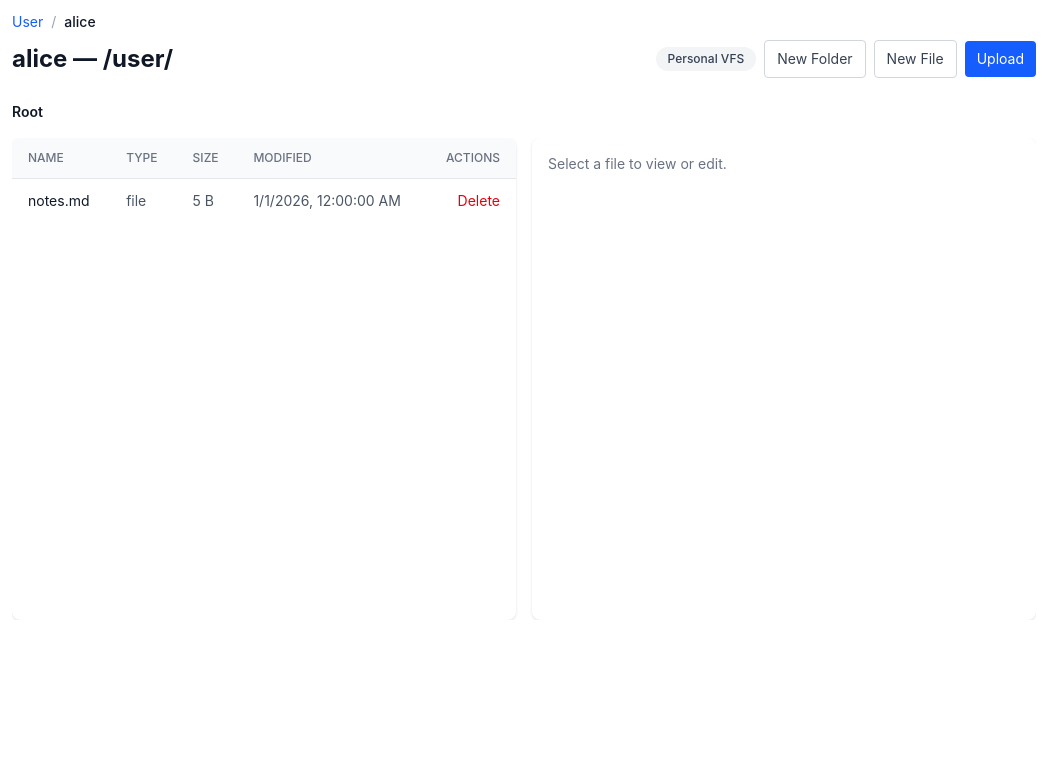
Test case: VfsScopedBrowserPage › opens file in editor when clicked
Click the button "notes.md".
click(61, 201)  # box x1=28 y1=191 x2=94 y2=211
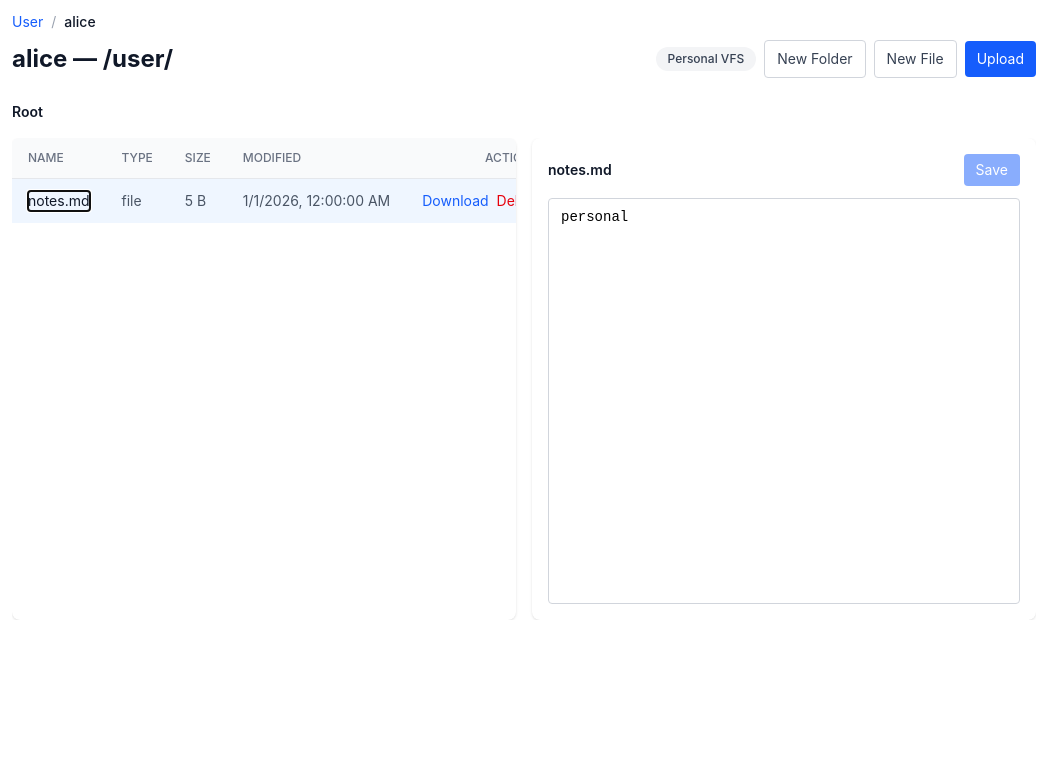
Check: the text box holds "personal", box x1=548 y1=198 x2=1020 y2=604
